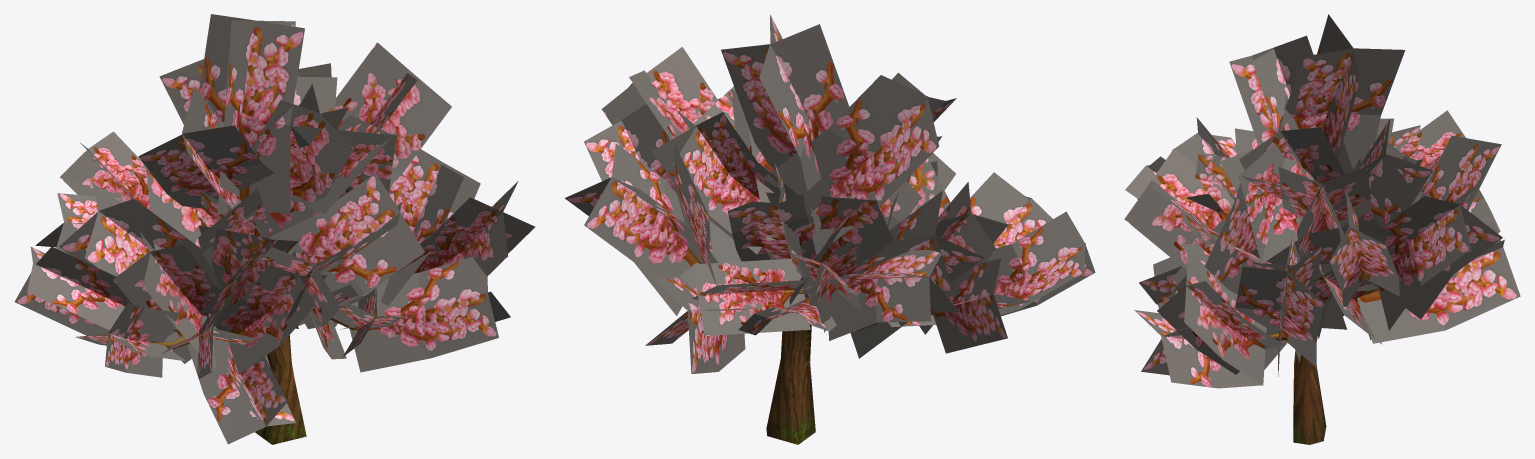
The model's file is Stage_JingJiChang_TaoShu.FBX.
The picture shows the model from 3 angles, left to right: view 1: azimuth 30°, elevation 25°; view 2: azimuth 150°, elevation 25°; view 3: azimuth 270°, elevation 25°; orthographic projection. The views are drawn at different scales.
Parts seen in each view (by area): view 1: Stage_JingJiChang_TaoShu; view 2: Stage_JingJiChang_TaoShu; view 3: Stage_JingJiChang_TaoShu.
Part boxes in pixels (x1,y1,x2,y2): Stage_JingJiChang_TaoShu: (14, 14, 535, 444); Stage_JingJiChang_TaoShu: (565, 14, 1095, 444); Stage_JingJiChang_TaoShu: (1124, 14, 1520, 444).
Size of the model in its own units: 1221 by 1115 by 997.
